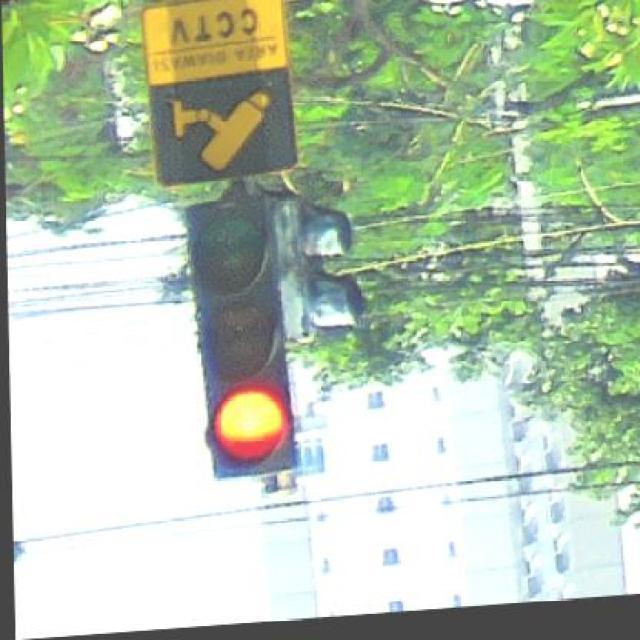traffic light: (186, 187, 296, 481), (273, 195, 365, 344), (299, 201, 365, 335)
